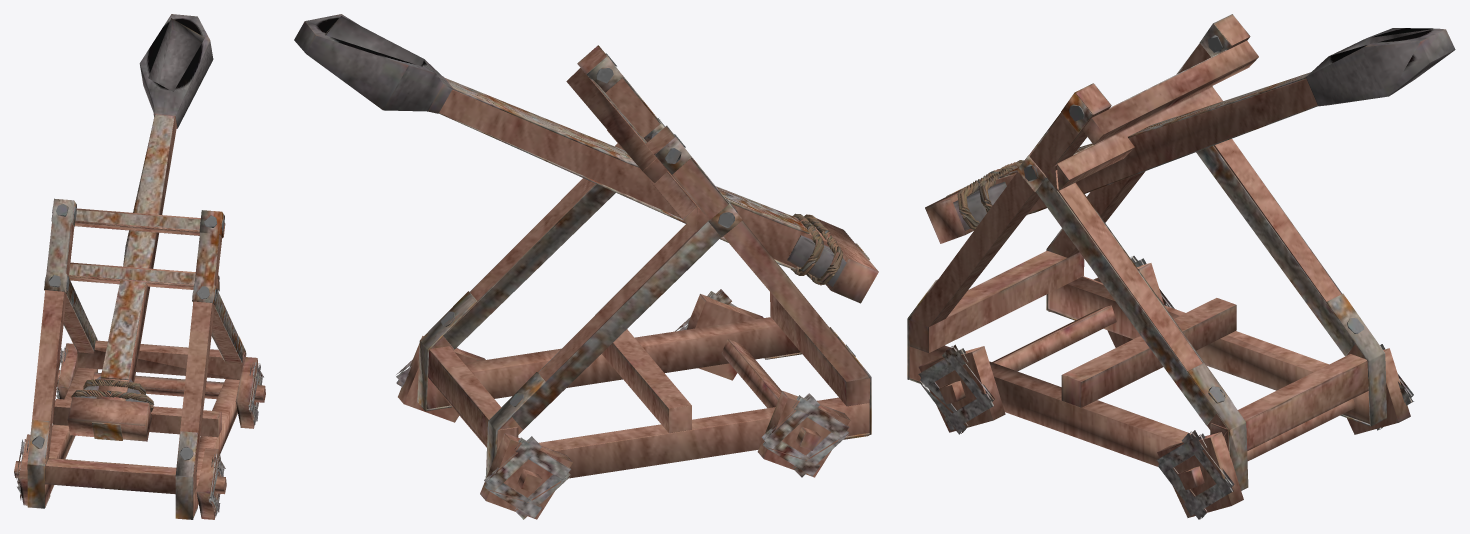
File: catapult.zfix-v14.lod0.glb
3 views of the same model, side by side, from view 1: azimuth 30°, elevation 25°; view 2: azimuth 150°, elevation 25°; view 3: azimuth 270°, elevation 25° (orthographic). The views are drawn at different scales.
Visible parts, largest first — view 1: Object_4, Object_5; view 2: Object_4, Object_5; view 3: Object_4, Object_5.
Boxes of the visible parts, x1=… form: Object_4: x1=14, y1=14, x2=265, y2=519; Object_5: x1=16, y1=115, x2=263, y2=519; Object_4: x1=294, y1=14, x2=878, y2=519; Object_5: x1=396, y1=45, x2=871, y2=519; Object_4: x1=908, y1=15, x2=1455, y2=517; Object_5: x1=907, y1=14, x2=1413, y2=519.
Size of the model in its own units: 6.32 by 6.96 by 7.
2 materials, 2 textured.
